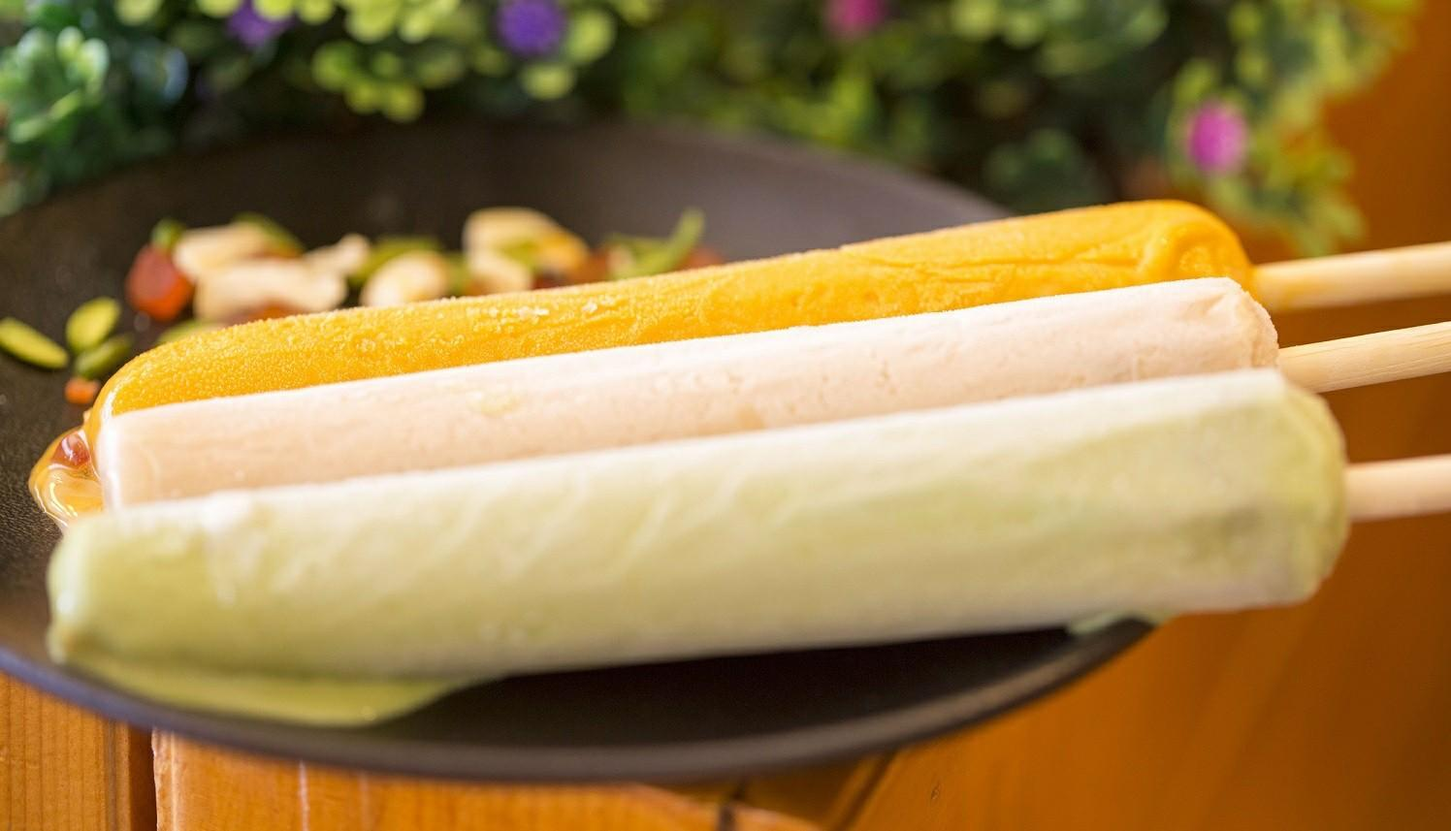Kulfi: (49, 373, 1345, 724), (96, 278, 1279, 506), (94, 201, 1244, 421)
